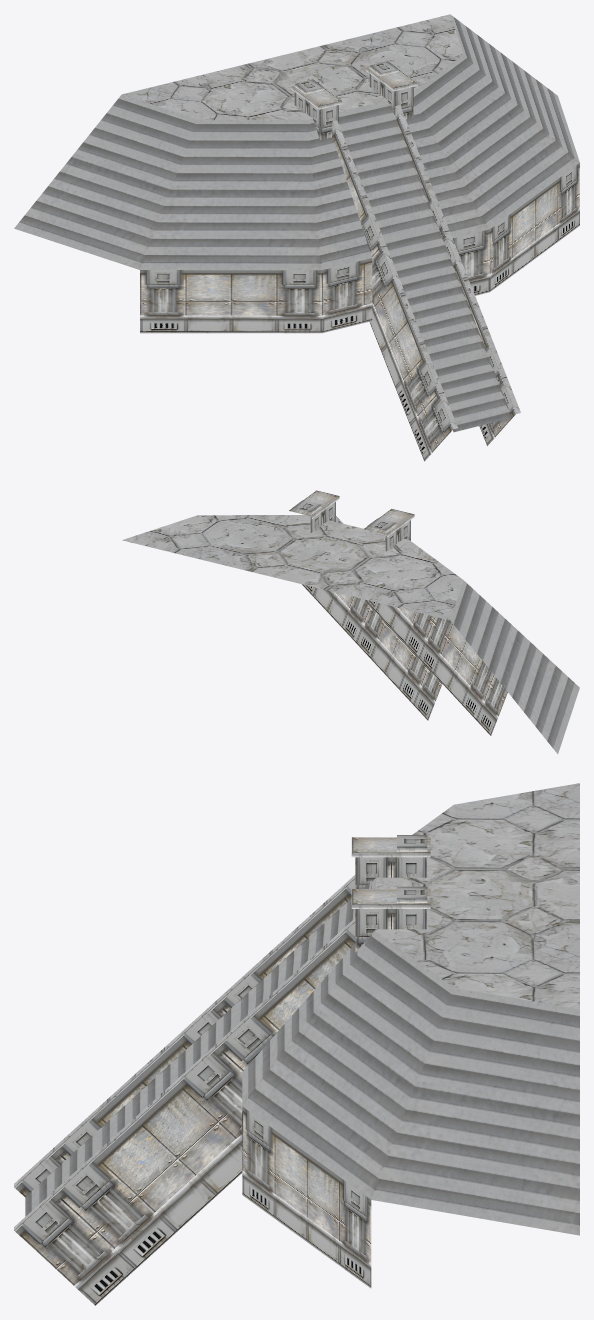
File: s_main_stairs_hdtex.glb
3 views of the same model, one above another, from view 1: azimuth 30°, elevation 25°; view 2: azimuth 150°, elevation 25°; view 3: azimuth 270°, elevation 25° (orthographic). The views are drawn at different scales.
Visible parts, largest first — view 1: S_HC_Stairs; view 2: S_HC_Stairs; view 3: S_HC_Stairs.
Boxes of the visible parts, bbox=[...] form: S_HC_Stairs: bbox=[14, 14, 579, 461]; S_HC_Stairs: bbox=[122, 490, 579, 753]; S_HC_Stairs: bbox=[14, 783, 579, 1305].
Bounding box in the file's own units: 47.49 × 24.59 × 30.34.
3 materials, 3 textured.
